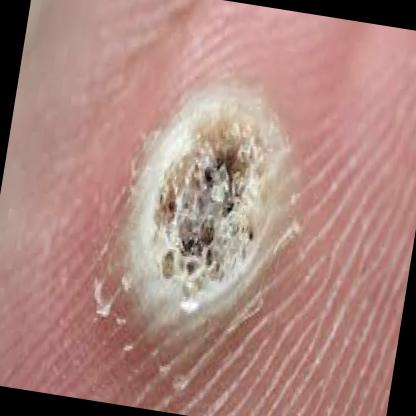Warts: (93, 42, 317, 362)
